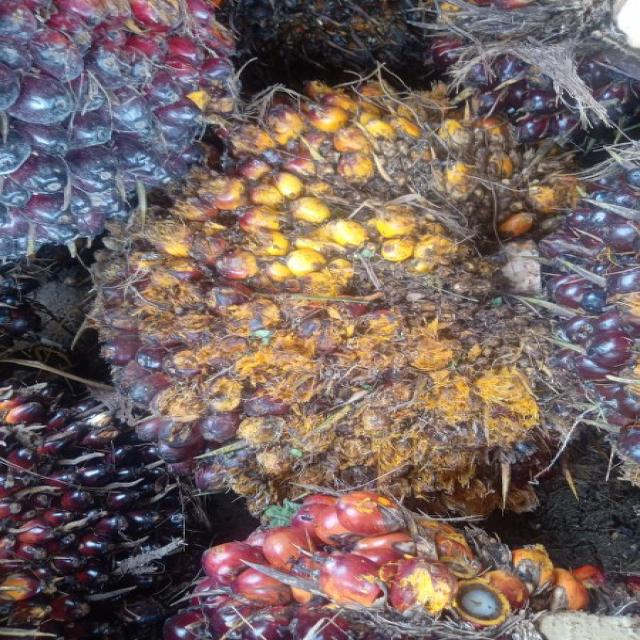fraksi 1: (20, 34, 620, 498)
